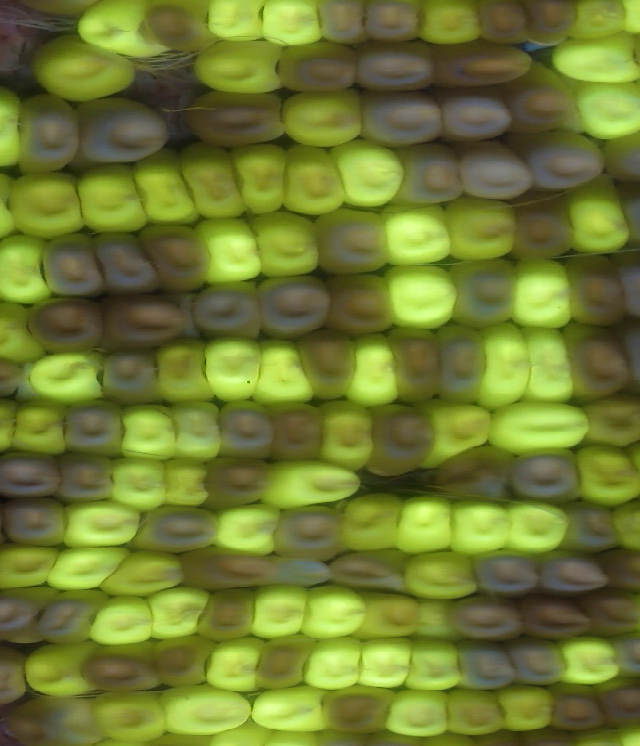fluorescent: (24, 29, 139, 107), (408, 393, 507, 473), (560, 171, 636, 262), (188, 33, 291, 100), (482, 397, 596, 457), (376, 254, 462, 333), (3, 167, 90, 242), (17, 635, 114, 702), (155, 677, 259, 739), (468, 319, 535, 415), (129, 144, 204, 229), (189, 211, 271, 288), (176, 138, 252, 221), (276, 83, 369, 150), (74, 158, 151, 237), (255, 455, 364, 510), (73, 1, 171, 62), (148, 331, 224, 409), (275, 140, 349, 220), (328, 137, 406, 212), (244, 209, 325, 281), (441, 191, 520, 264), (515, 319, 579, 409), (509, 253, 577, 336), (226, 139, 295, 218), (377, 200, 456, 269), (246, 336, 320, 409), (566, 73, 640, 146), (315, 394, 381, 475), (397, 544, 483, 606), (199, 630, 275, 700), (549, 30, 640, 87), (568, 439, 640, 511), (246, 681, 334, 739), (94, 547, 192, 599), (342, 329, 405, 409), (25, 349, 108, 409), (57, 493, 144, 550), (199, 330, 265, 405), (40, 543, 128, 599), (497, 493, 574, 556), (296, 580, 371, 644), (440, 495, 515, 559), (336, 487, 405, 555), (95, 687, 174, 746), (388, 490, 455, 559), (114, 397, 180, 466), (165, 396, 230, 465), (8, 393, 75, 459), (104, 451, 173, 515), (214, 498, 285, 559), (0, 232, 56, 309), (249, 579, 313, 645), (82, 592, 160, 646), (349, 585, 424, 641), (301, 629, 365, 694), (441, 683, 512, 740), (557, 633, 626, 691), (147, 581, 212, 642), (0, 536, 66, 595), (383, 685, 455, 739), (399, 636, 467, 692), (351, 634, 418, 690), (415, 1, 488, 50), (495, 680, 558, 734), (260, 1, 326, 52), (155, 456, 216, 511), (197, 1, 271, 45), (0, 299, 47, 365), (409, 594, 464, 645), (564, 1, 632, 41), (609, 496, 640, 559)
nonfluorescent: (67, 91, 172, 169), (181, 83, 298, 152), (422, 35, 540, 95), (425, 440, 527, 509), (493, 58, 577, 139), (8, 88, 80, 180), (312, 204, 395, 283), (560, 319, 637, 404), (83, 226, 171, 300), (447, 138, 542, 205), (134, 220, 215, 298), (560, 249, 635, 332), (255, 269, 339, 343), (516, 128, 611, 193), (445, 253, 522, 333), (98, 291, 195, 354), (356, 87, 451, 151), (510, 185, 584, 267), (428, 316, 493, 409), (275, 34, 365, 101), (18, 292, 110, 357), (387, 139, 471, 210), (0, 691, 108, 746), (76, 640, 173, 700), (34, 228, 112, 302), (347, 36, 443, 96), (295, 323, 364, 405), (367, 397, 435, 480), (318, 269, 399, 338), (185, 280, 268, 346), (384, 320, 445, 409), (55, 391, 131, 462), (134, 502, 229, 558), (175, 541, 279, 592), (433, 84, 521, 144), (96, 341, 169, 411), (46, 445, 125, 509), (445, 591, 533, 648), (30, 585, 108, 649), (265, 502, 348, 562), (504, 447, 586, 507), (212, 395, 284, 463), (249, 632, 322, 698), (137, 1, 222, 57), (200, 450, 271, 516), (451, 636, 524, 695), (533, 548, 616, 599), (327, 545, 415, 593), (0, 580, 61, 649), (151, 631, 222, 690), (195, 583, 261, 646), (467, 546, 545, 599), (503, 630, 573, 689), (265, 398, 330, 461), (518, 593, 601, 642), (0, 494, 72, 549), (0, 444, 67, 502), (575, 581, 640, 640), (558, 500, 624, 556), (548, 681, 611, 734), (262, 549, 335, 594), (517, 1, 585, 47), (355, 1, 423, 46), (309, 1, 370, 47), (470, 1, 531, 47), (596, 124, 640, 186), (592, 673, 640, 729), (0, 639, 33, 710), (600, 547, 640, 590), (610, 628, 640, 681)
